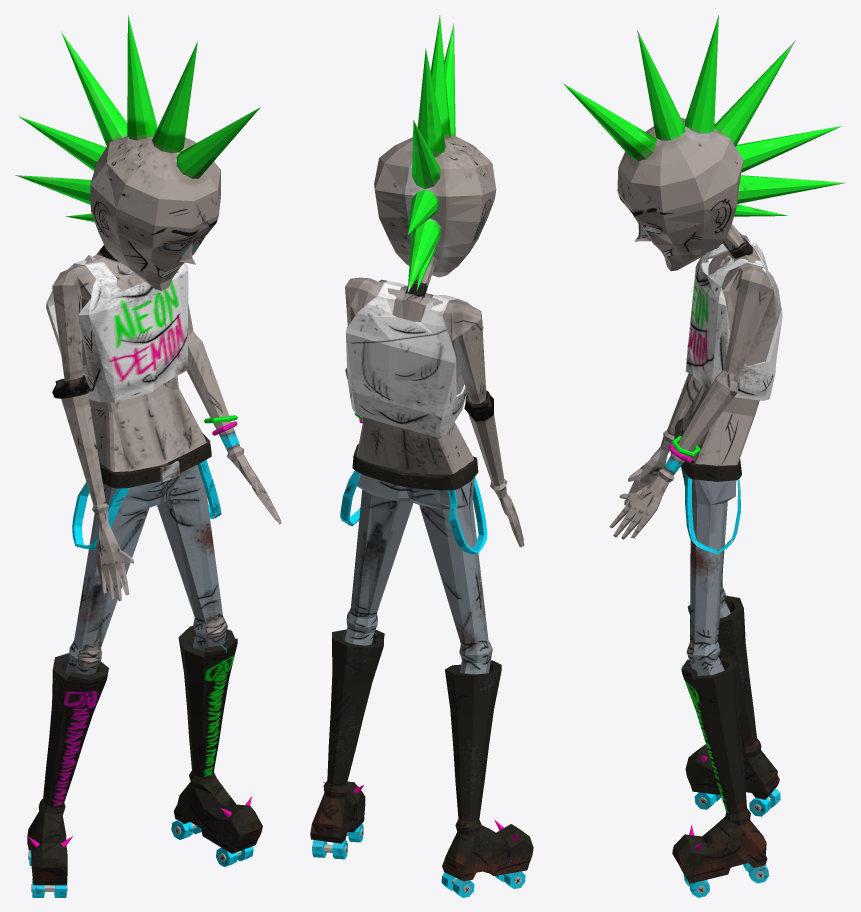
File: punkAnimation_000006.obj
3 renders of one model, left to right at view 1: azimuth 30°, elevation 25°; view 2: azimuth 150°, elevation 25°; view 3: azimuth 270°, elevation 25°, orthographic. The views are drawn at different scales.
Parts seen in each view (by area): view 1: Cube.004_Cube.003; view 2: Cube.004_Cube.003; view 3: Cube.004_Cube.003.
Part boxes in pixels (x1=…): Cube.004_Cube.003: x1=15, y1=15, x2=281, y2=897; Cube.004_Cube.003: x1=310, y1=15, x2=533, y2=897; Cube.004_Cube.003: x1=563, y1=15, x2=846, y2=897.
Size of the model in its own units: 1.99 by 7.48 by 2.32.
